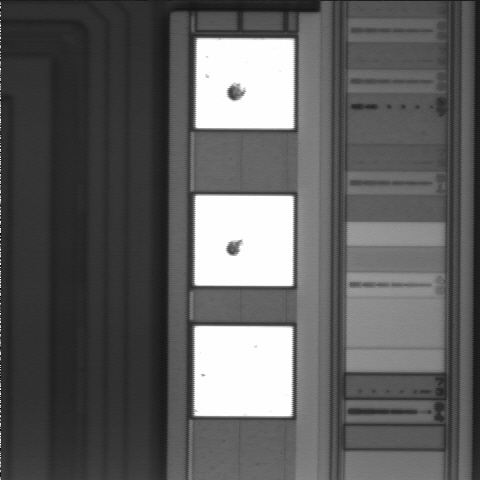pad: (196, 38, 294, 129), (195, 195, 293, 286), (195, 326, 292, 416)
